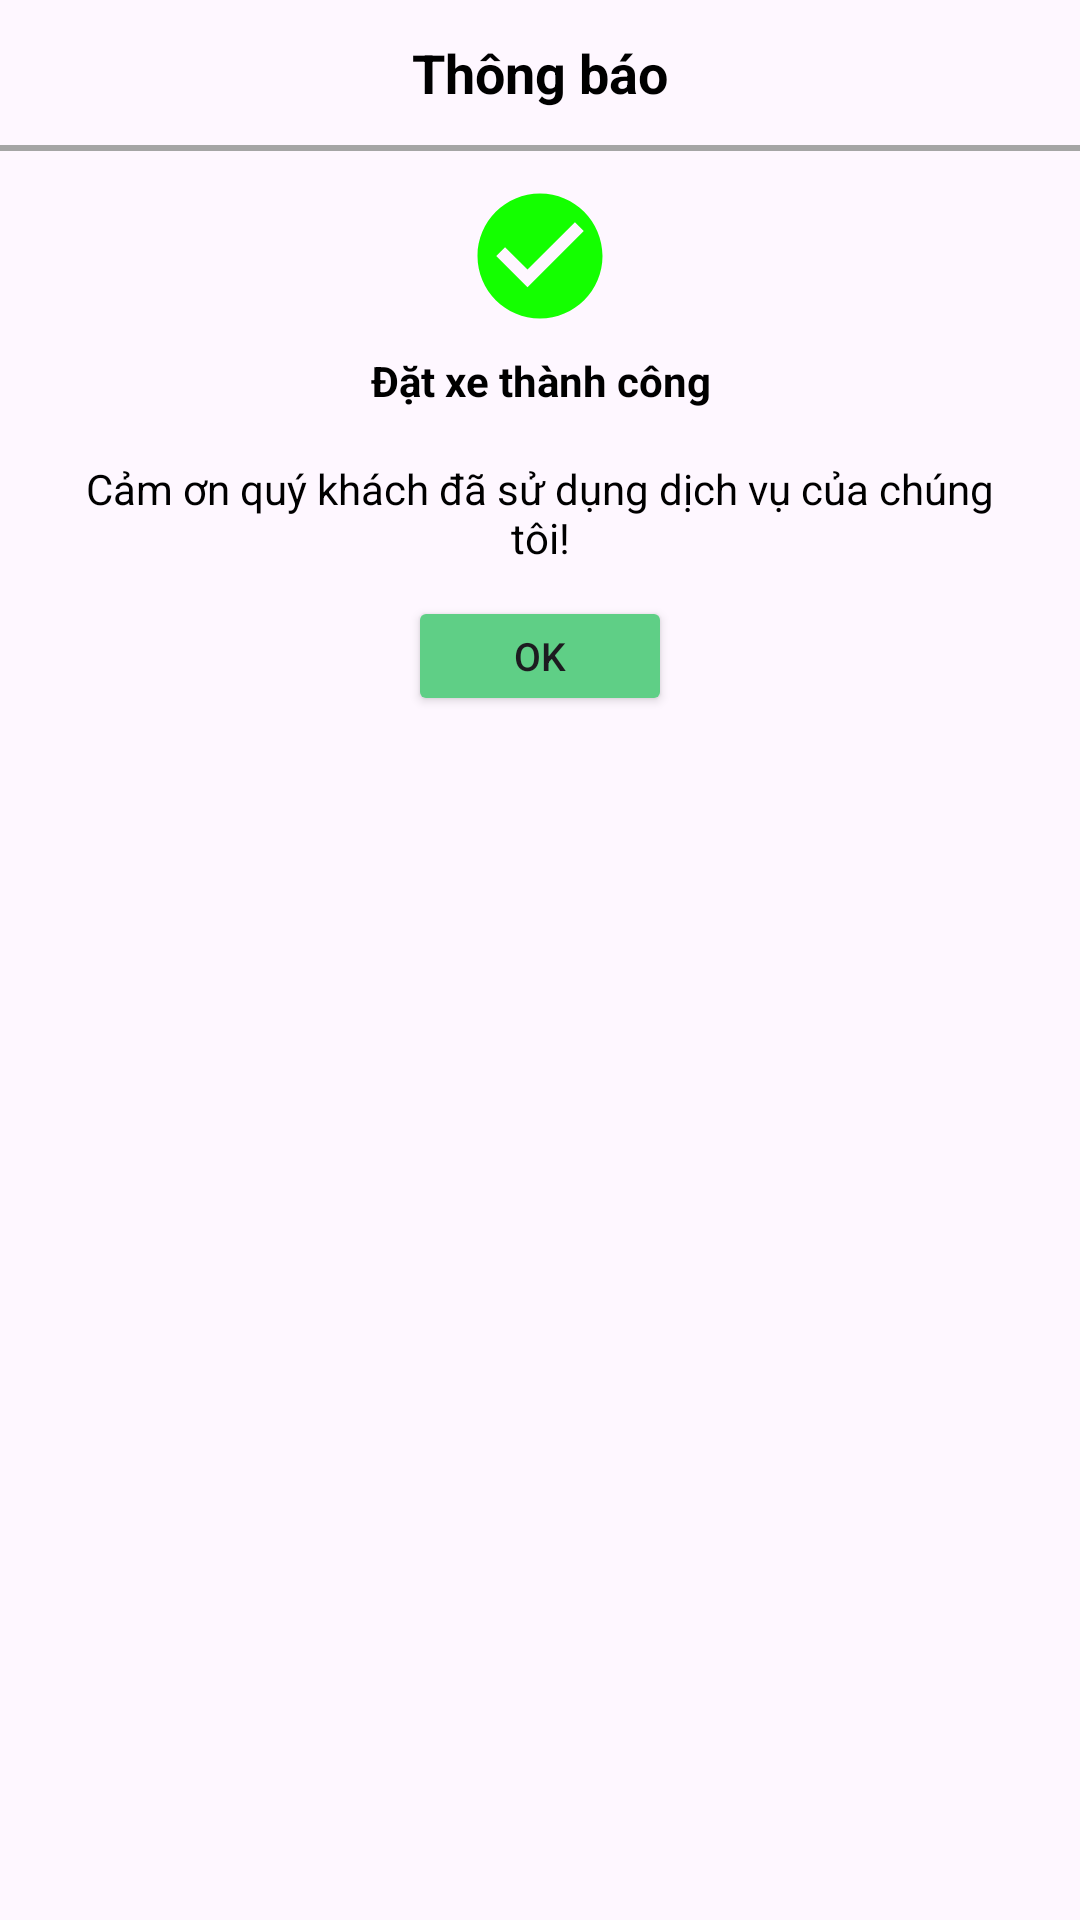

Screen size 1080px×1920px. Icon name, then its box in pixels as (x1, y1, x2, y2):
succes: (477, 193, 603, 319)
